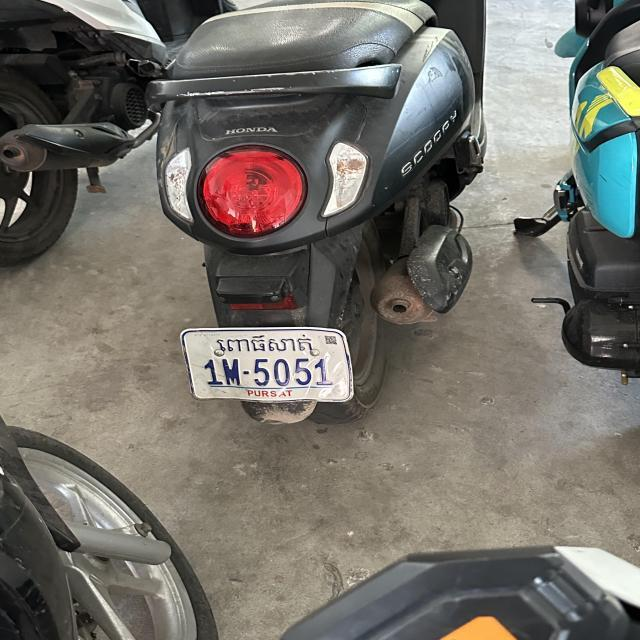Pursat: (211, 333, 314, 357)
